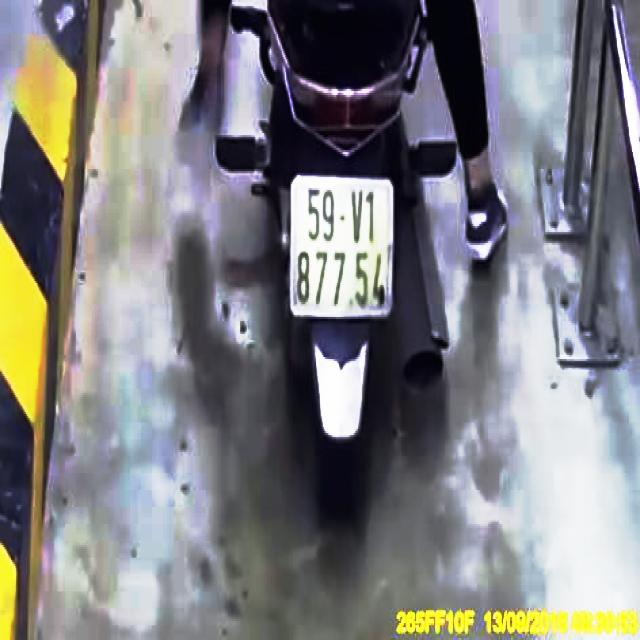license_plate: (292, 179, 394, 318)
